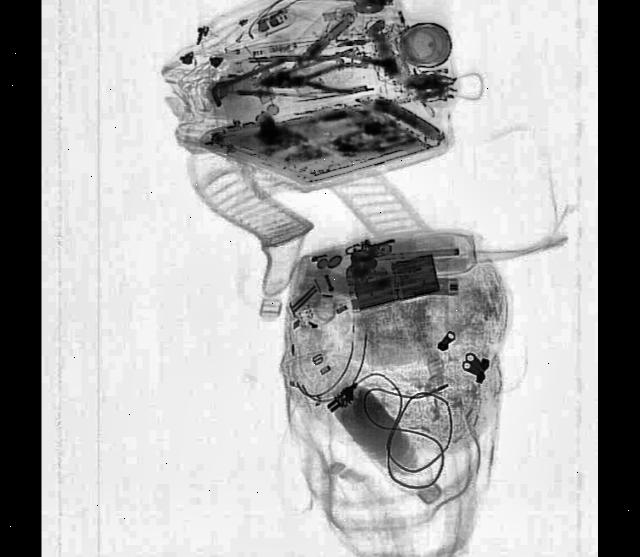Pliers: (259, 60, 366, 99)
